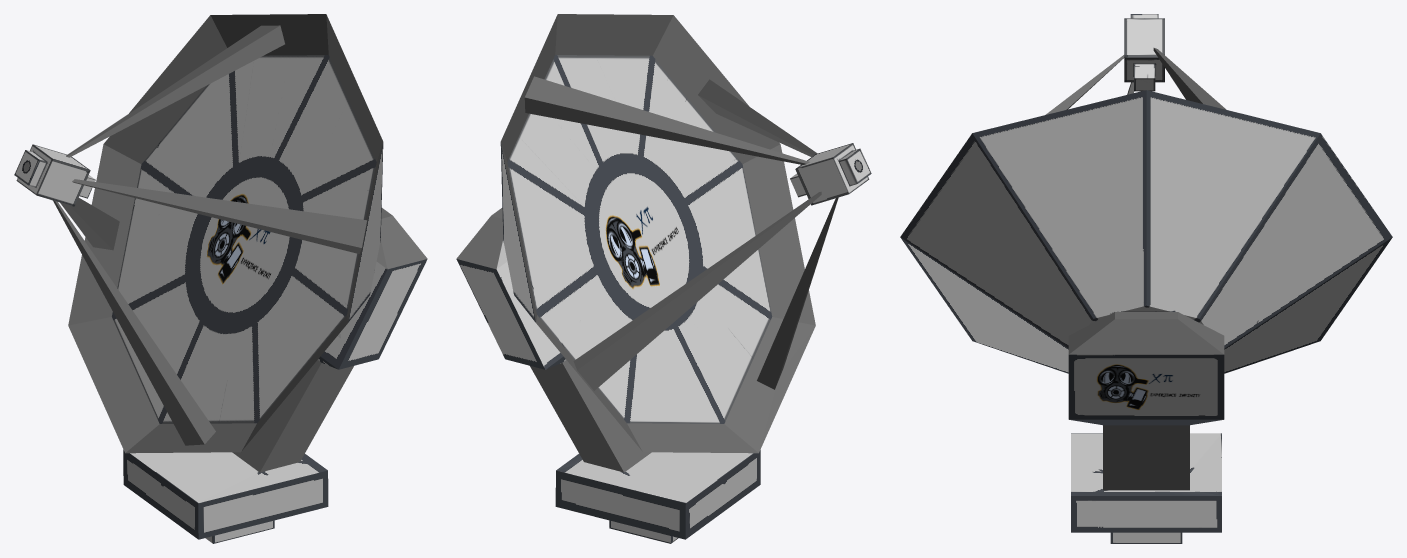
Rendered from Antennae.fbx.
The picture shows the model from 3 angles, left to right: view 1: azimuth 30°, elevation 25°; view 2: azimuth 150°, elevation 25°; view 3: azimuth 270°, elevation 25°; orthographic projection.
Visible parts, largest first — view 1: Dish_LOD0; view 2: Dish_LOD0; view 3: Dish_LOD0.
Boxes of the visible parts, bbox=[...] form: Dish_LOD0: bbox=[14, 14, 427, 543]; Dish_LOD0: bbox=[456, 14, 871, 543]; Dish_LOD0: bbox=[900, 14, 1392, 543].
Size of what is drawn, in the model's own units: 568 by 714 by 652.
2 materials, 1 textured.
